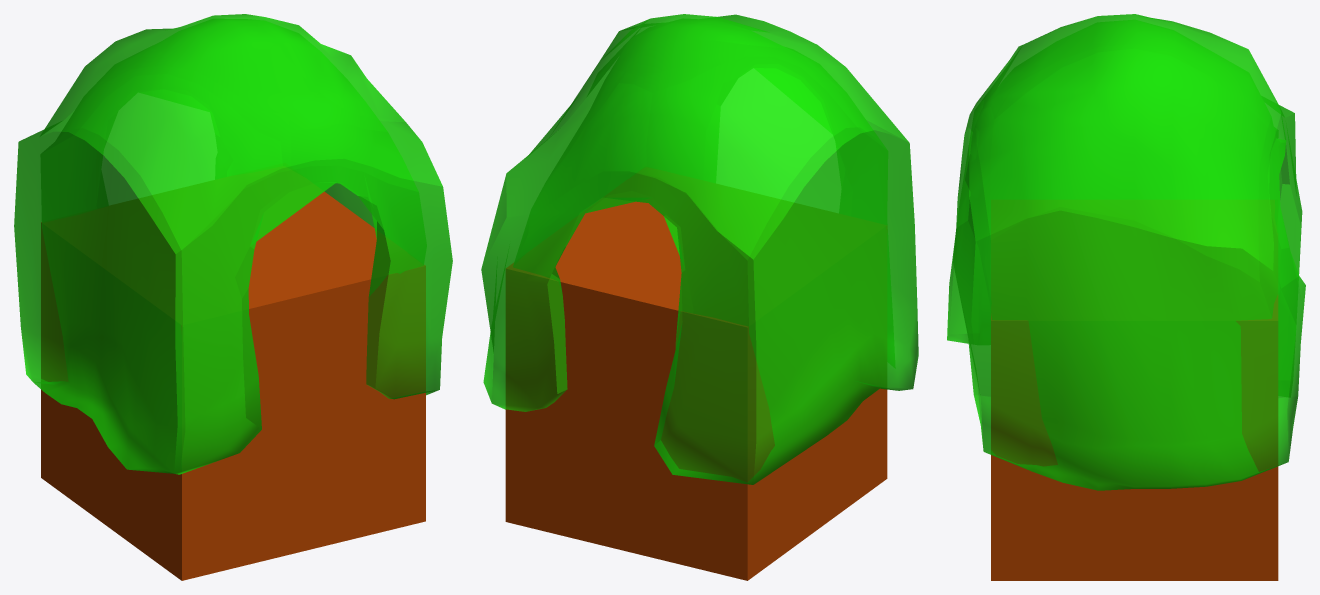
File: lowHPDoor.fbx
The picture shows the model from 3 angles, left to right: view 1: azimuth 30°, elevation 25°; view 2: azimuth 150°, elevation 25°; view 3: azimuth 270°, elevation 25°; orthographic projection. The views are drawn at different scales.
Parts seen in each view (by area): view 1: Cube.001, Cube; view 2: Cube.001, Cube; view 3: Cube.001, Cube.
Boxes of the visible parts, <box> form: Cube.001: <box>14,14,452,474</box>; Cube: <box>41,191,425,580</box>; Cube.001: <box>481,14,918,484</box>; Cube: <box>505,201,887,580</box>; Cube.001: <box>947,14,1305,490</box>; Cube: <box>991,295,1278,580</box>.
Size of the model in its own units: 140 by 188 by 125.
